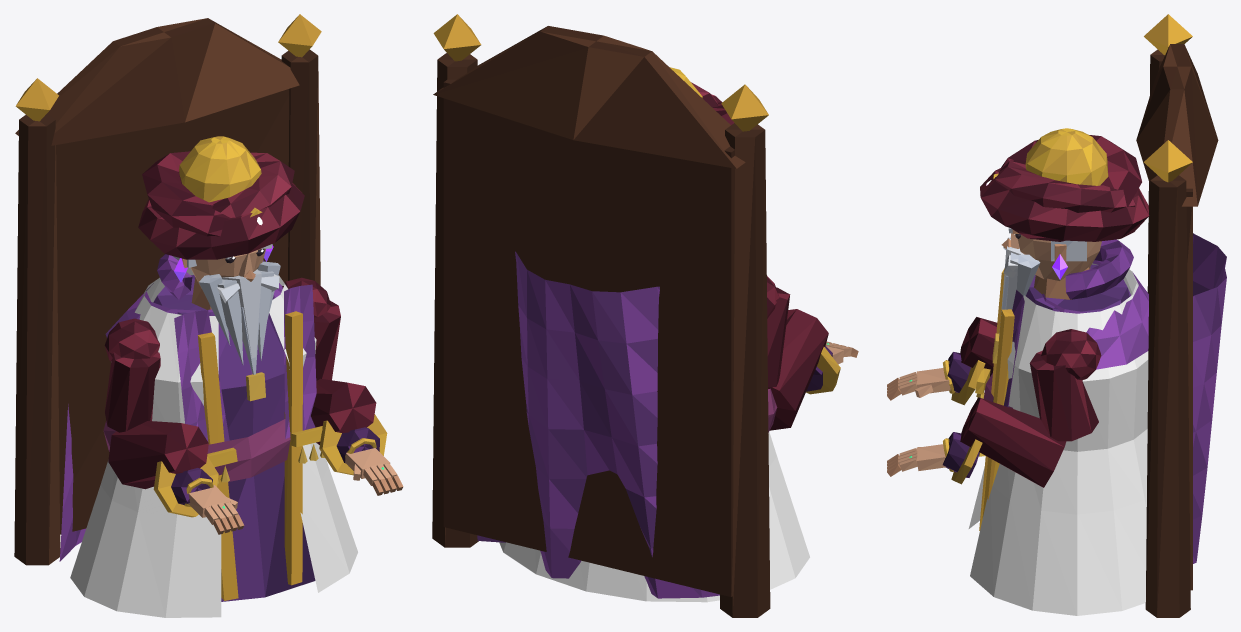
The model's file is sati_archmage.glb.
The picture shows the model from 3 angles, left to right: view 1: azimuth 30°, elevation 25°; view 2: azimuth 150°, elevation 25°; view 3: azimuth 270°, elevation 25°; orthographic projection. The views are drawn at different scales.
Visible parts, largest first — view 1: SatiThrone, SatiTorso, SatiHead, SatiLeftArm, SatiRightArm; view 2: SatiThrone, SatiTorso, SatiLeftArm, SatiHead; view 3: SatiTorso, SatiThrone, SatiHead, SatiRightArm, SatiLeftArm.
Boxes of the visible parts, left/top/right/bottom form: SatiThrone: left=14, top=14, right=321, bottom=565; SatiTorso: left=59, top=267, right=357, bottom=617; SatiHead: left=138, top=136, right=304, bottom=374; SatiLeftArm: left=104, top=318, right=244, bottom=534; SatiRightArm: left=282, top=277, right=403, bottom=495; SatiThrone: left=432, top=14, right=770, bottom=617; SatiTorso: left=477, top=251, right=809, bottom=602; SatiLeftArm: left=767, top=276, right=858, bottom=430; SatiHead: left=669, top=67, right=734, bottom=124; SatiTorso: left=968, top=233, right=1226, bottom=615; SatiThrone: left=1136, top=14, right=1218, bottom=617; SatiHead: left=980, top=128, right=1149, bottom=337; SatiRightArm: left=887, top=329, right=1101, bottom=487; SatiLeftArm: left=887, top=317, right=997, bottom=405.
Bounding box in the file's own units: 1.54 × 2.38 × 1.51.
